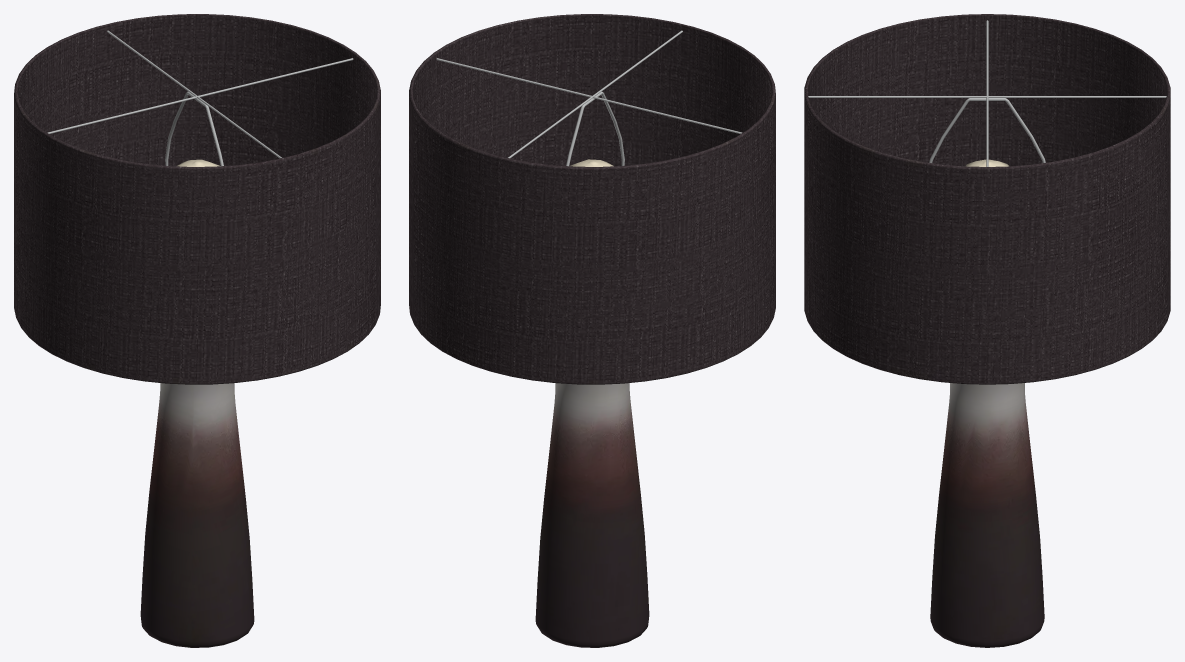
File: B07HKF59M9.glb
3 views of the same model, side by side, from view 1: azimuth 30°, elevation 25°; view 2: azimuth 150°, elevation 25°; view 3: azimuth 270°, elevation 25° (orthographic).
Parts seen in each view (by area): view 1: RootNode; view 2: RootNode; view 3: RootNode.
Boxes of the visible parts, x1,y1,x2,y2 form: RootNode: [14, 14, 380, 647]; RootNode: [409, 14, 775, 647]; RootNode: [804, 14, 1170, 647].
Bounding box in the file's own units: 0.3029 × 0.4882 × 0.3023.
1 material, 1 textured.
